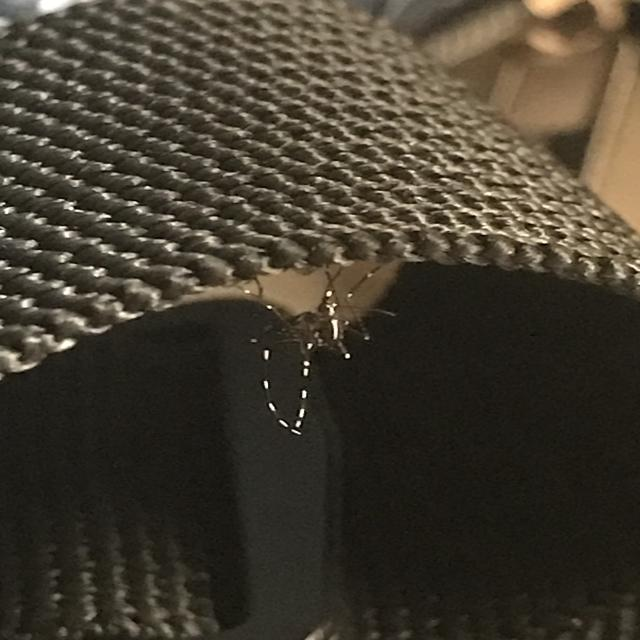albopictus: (188, 248, 414, 437)
